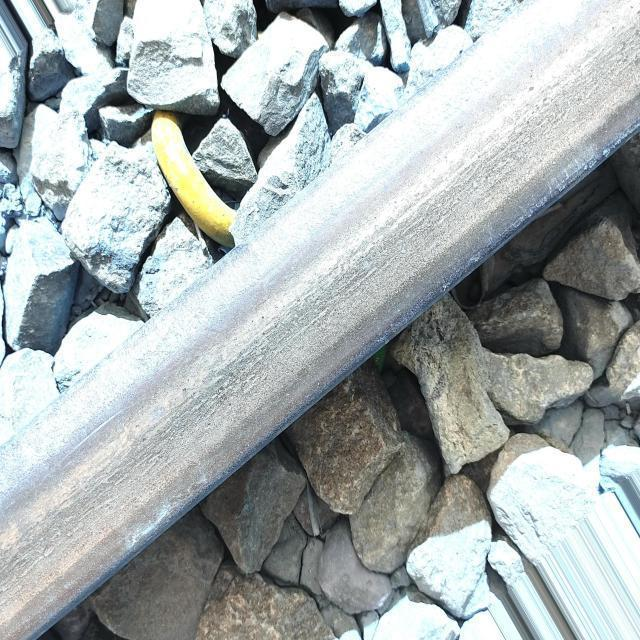head_checks_low: (149, 405, 167, 422)
